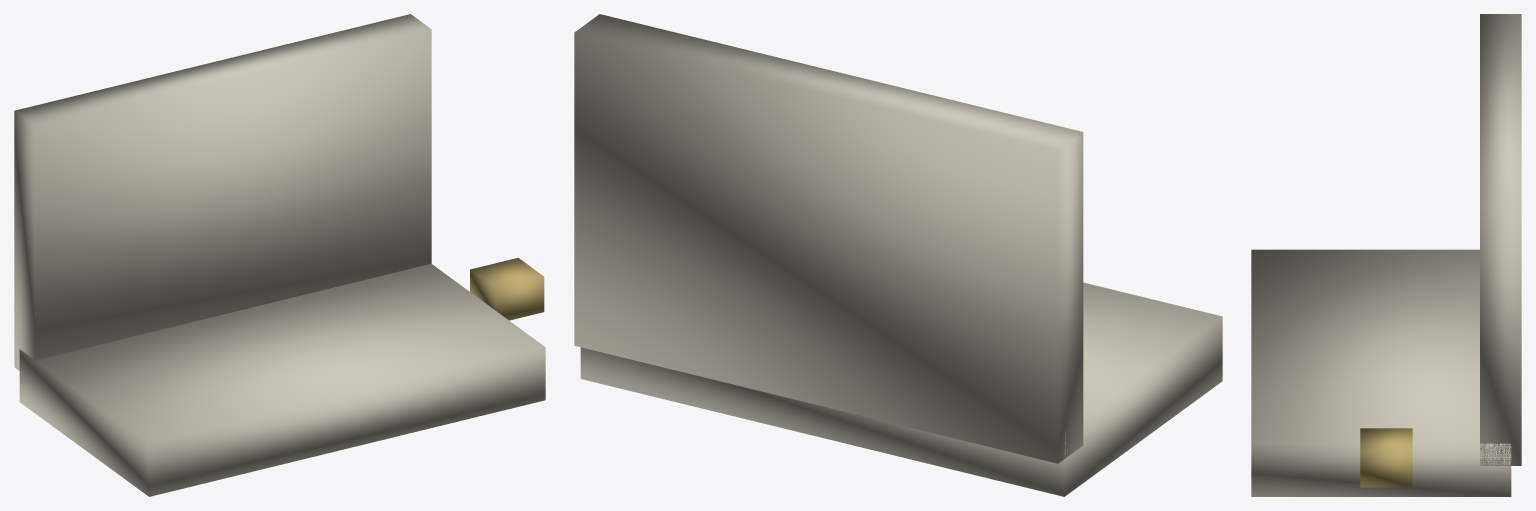
File: baby_change_08.glb
The picture shows the model from 3 angles, left to right: view 1: azimuth 30°, elevation 25°; view 2: azimuth 150°, elevation 25°; view 3: azimuth 270°, elevation 25°; orthographic projection. The views are drawn at different scales.
Visible parts, largest first — view 1: world; view 2: world; view 3: world.
Boxes of the visible parts, x1=… form: world: x1=14, y1=14, x2=545, y2=496; world: x1=574, y1=14, x2=1222, y2=496; world: x1=1251, y1=14, x2=1521, y2=496.
Size of the model in its own units: 1.04 by 0.637 by 0.5408.
